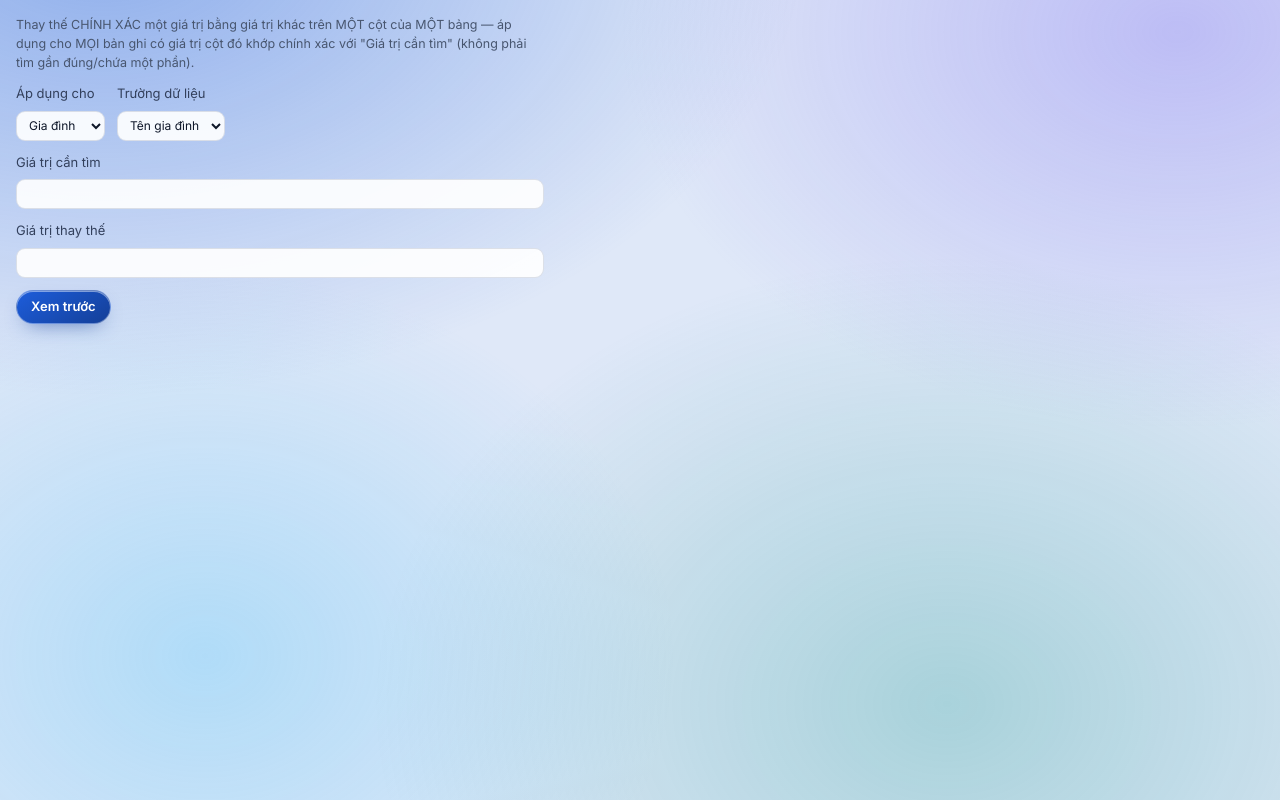
Test: TimThayThePage › xem truoc hien dung so ban ghi khop, chua goi ghi that
Type "Sài Gòn" into the field labelled "Giá trị cần tìm" at {"x": 280, "y": 194}, box [16, 179, 544, 209]
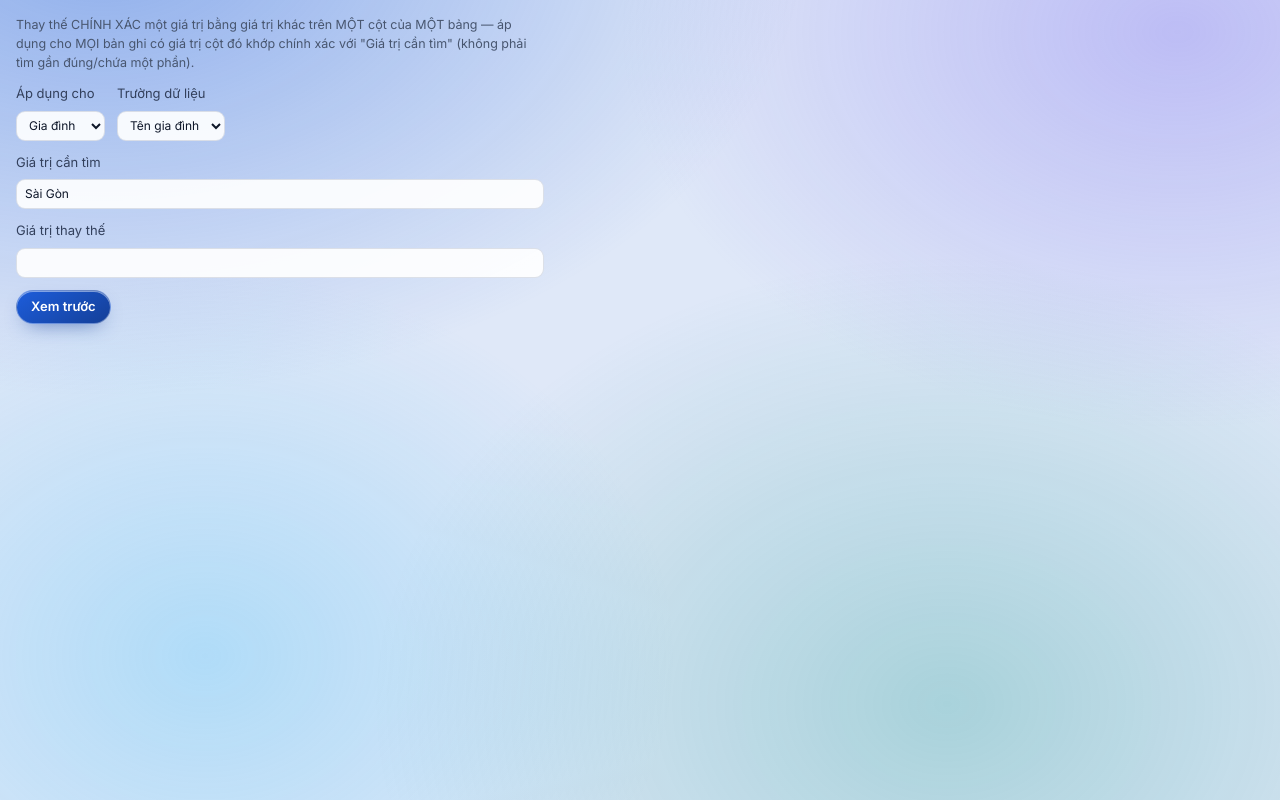
Type "TP. Hồ Chí Minh" into the field labelled "Giá trị thay thế" at {"x": 280, "y": 263}, box [16, 248, 544, 278]
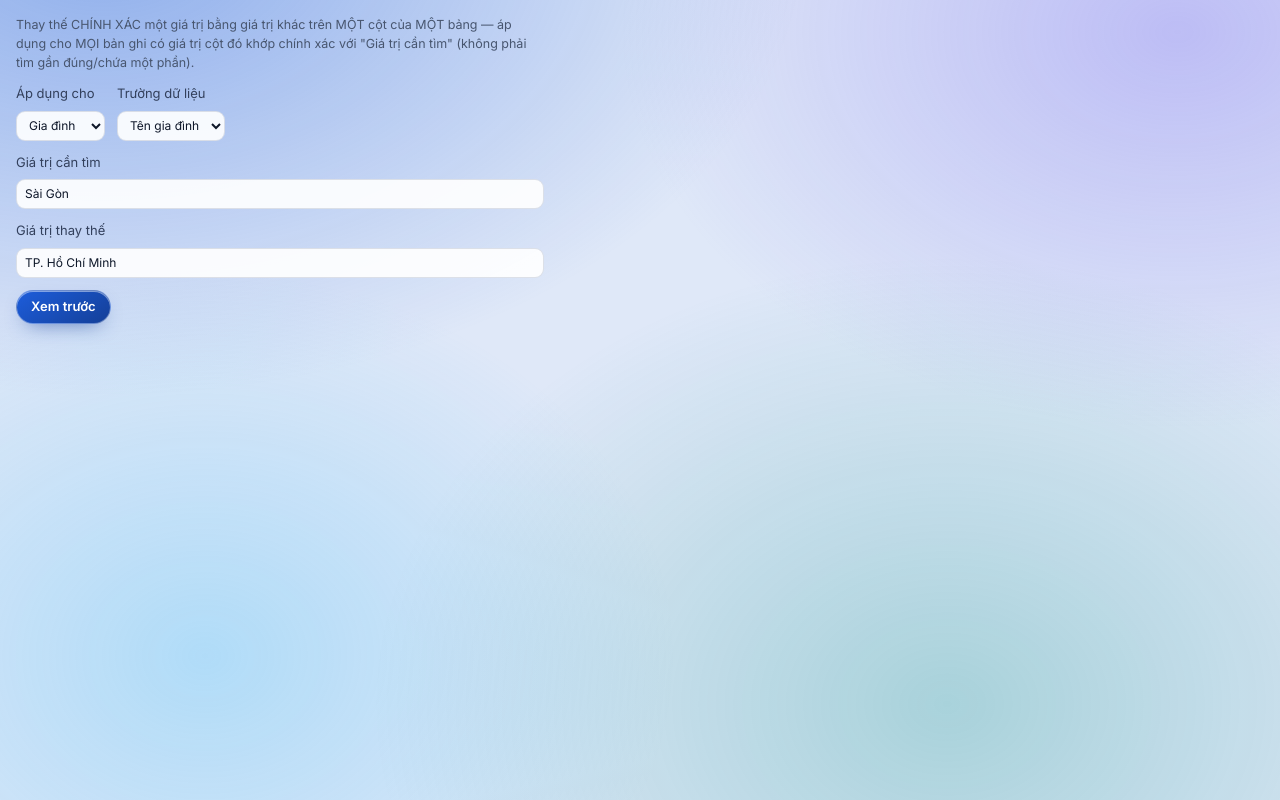
Click the button "Xem trước" at {"x": 63, "y": 307}, box [16, 290, 111, 324]
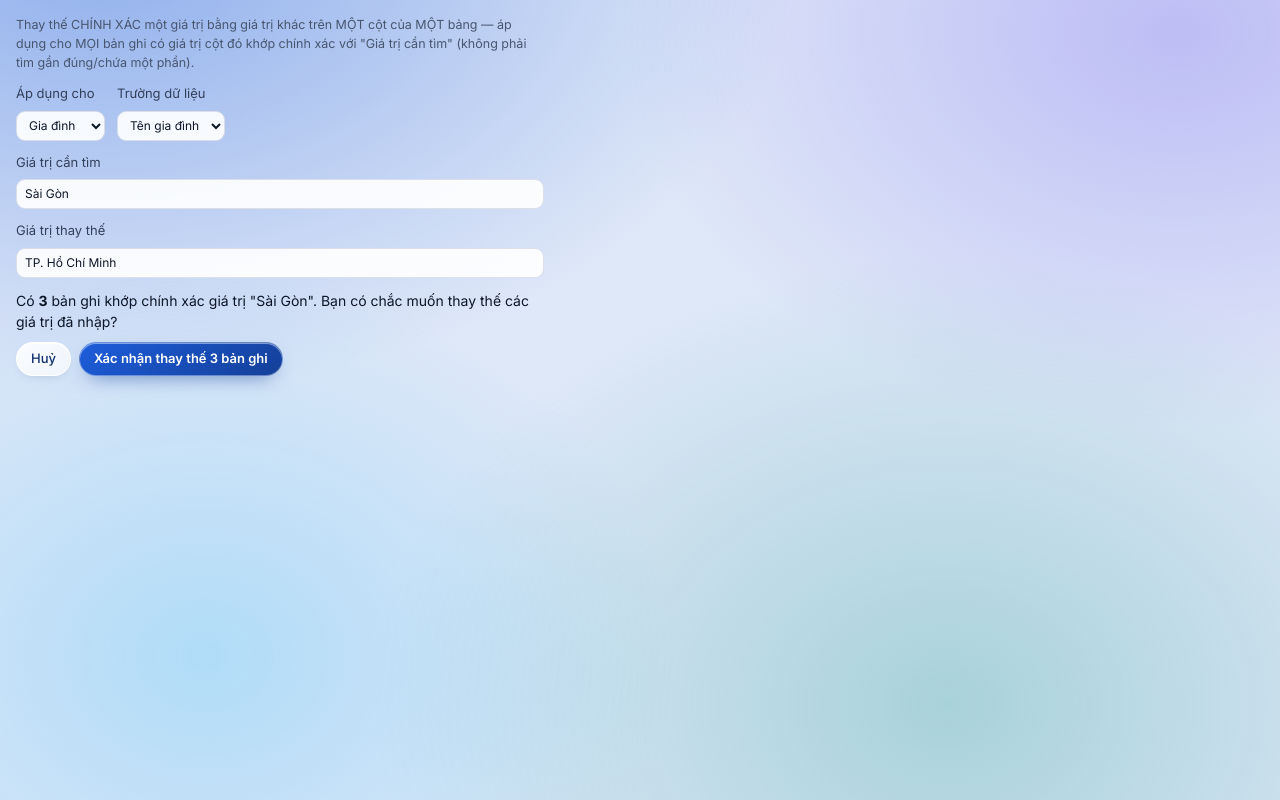
Result: the text "3" is shown at [39, 292, 48, 309]
